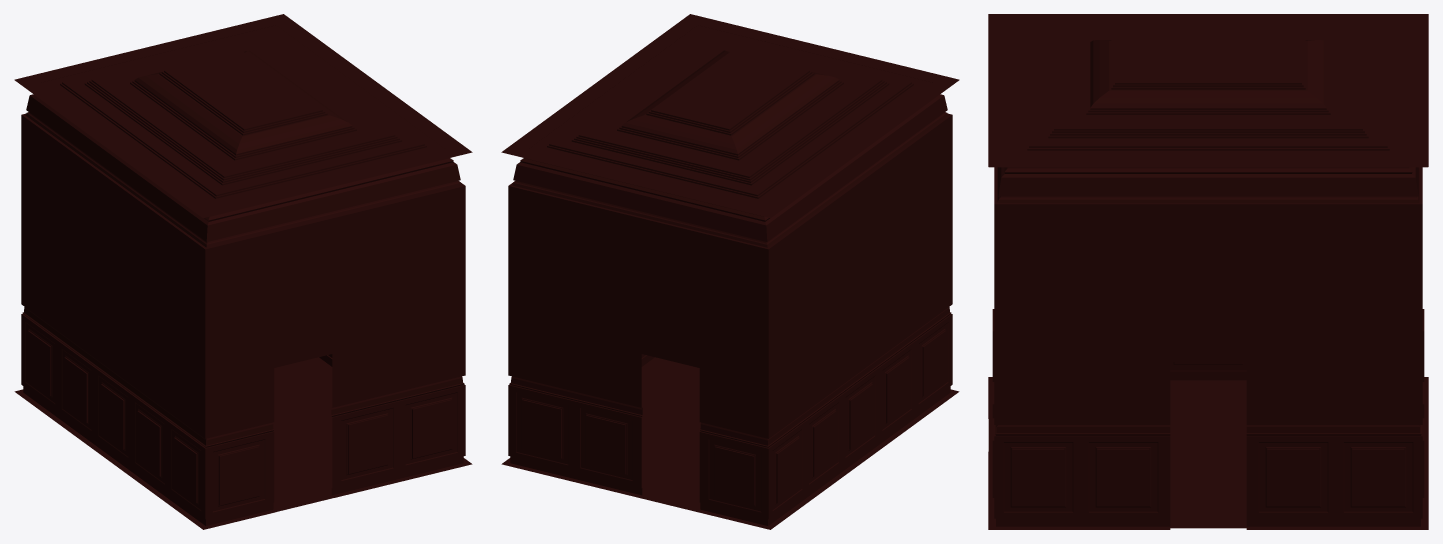
The model's file is 3door_3.FBX.
3 views of the same model, side by side, from view 1: azimuth 30°, elevation 25°; view 2: azimuth 150°, elevation 25°; view 3: azimuth 270°, elevation 25° (orthographic). The views are drawn at different scales.
Visible parts, largest first — view 1: wall, ceiling, floor; view 2: wall, ceiling, floor; view 3: wall, ceiling, floor.
Boxes of the visible parts, box(x1,y1,x2,y2) form: wall: box(14, 14, 472, 529); ceiling: box(14, 25, 467, 217); floor: box(17, 357, 468, 528); wall: box(501, 14, 959, 529); ceiling: box(506, 16, 959, 217); floor: box(505, 357, 955, 529); wall: box(988, 14, 1428, 529); ceiling: box(989, 23, 1427, 167); floor: box(988, 378, 1428, 528).
Size of the model in its own units: 160 by 195 by 192.
